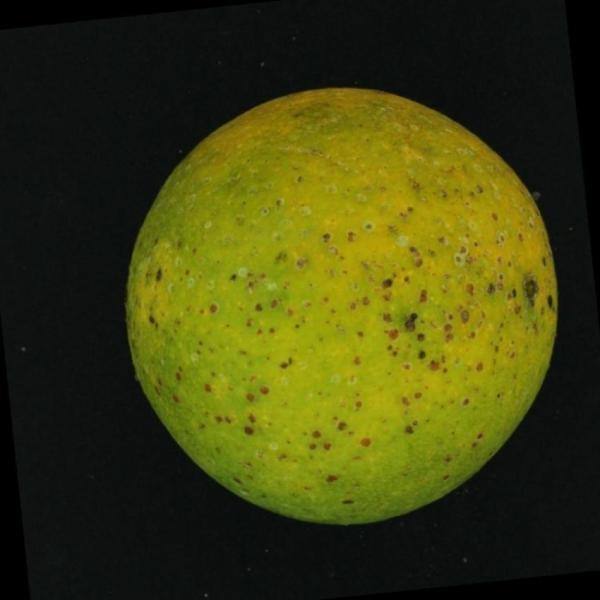Greening: (116, 72, 578, 532)
